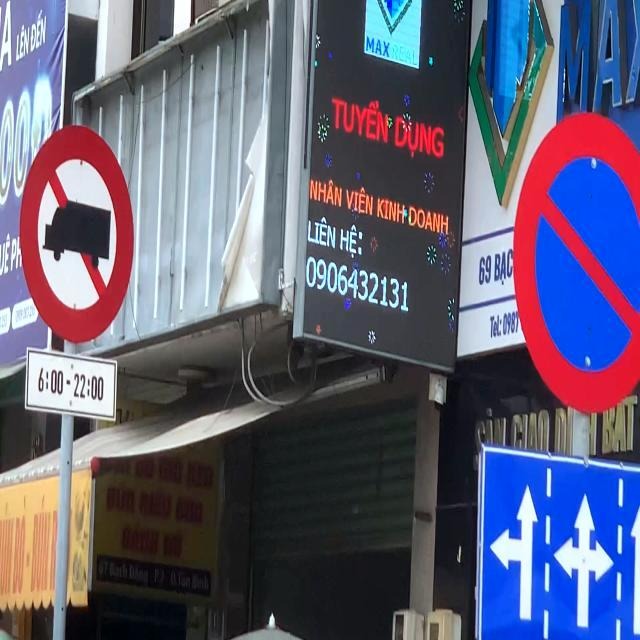Cam do xe: (511, 105, 640, 412)
Cam xe tai: (18, 122, 132, 352)
